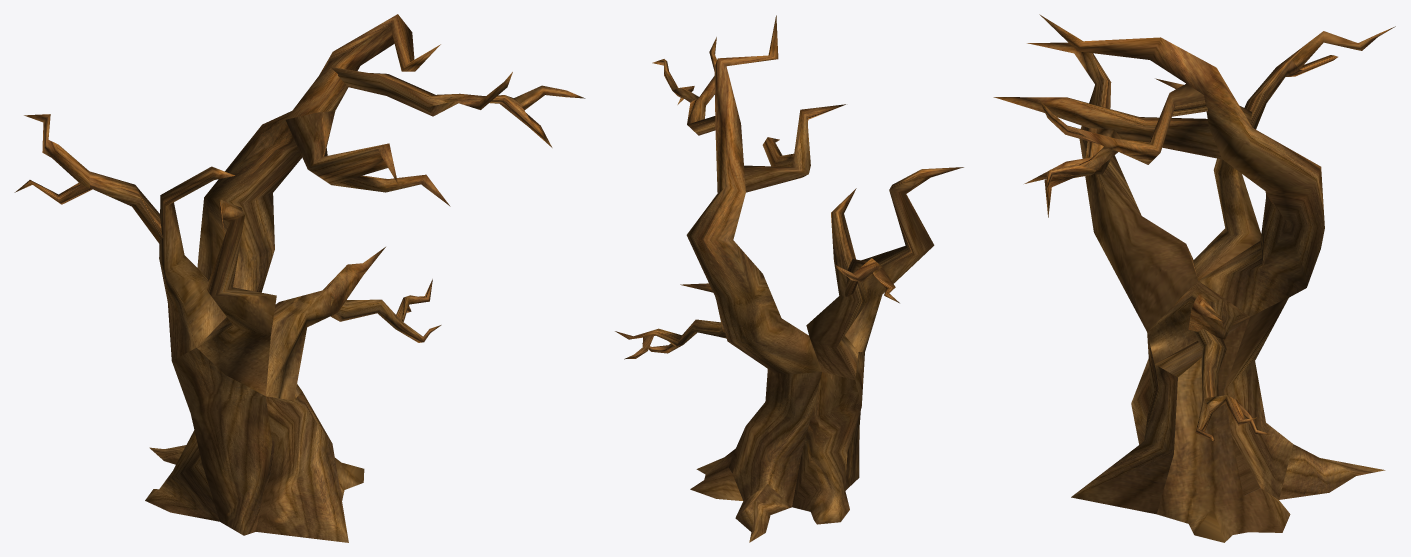
The model's file is n_treevine01.glb.
The picture shows the model from 3 angles, left to right: view 1: azimuth 30°, elevation 25°; view 2: azimuth 150°, elevation 25°; view 3: azimuth 270°, elevation 25°; orthographic projection. The views are drawn at different scales.
Parts seen in each view (by area): view 1: n_treevine01; view 2: n_treevine01; view 3: n_treevine01.
Boxes of the visible parts, left/top/right/bottom form: n_treevine01: left=14, top=14, right=585, bottom=542; n_treevine01: left=615, top=15, right=963, bottom=542; n_treevine01: left=993, top=14, right=1395, bottom=542.
Bounding box in the file's own units: 3.71 × 3.99 × 2.79.
Materials: 1 (1 with a texture image).
